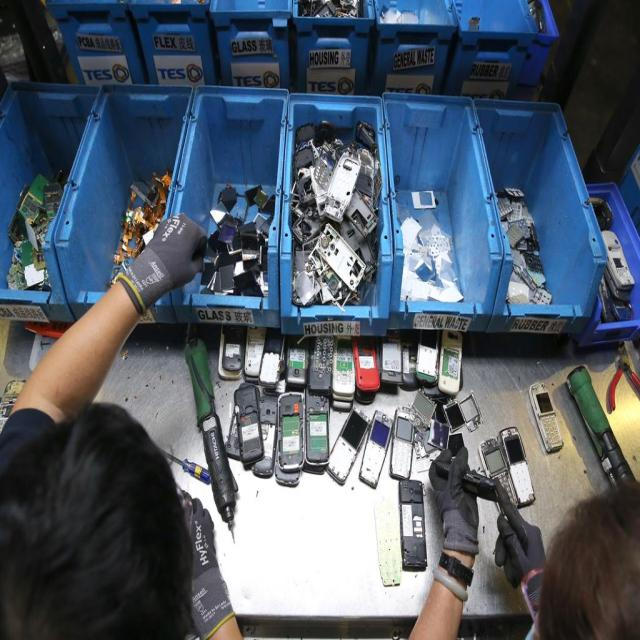Hazard: (179, 344, 542, 550), (294, 147, 372, 358), (15, 161, 64, 284), (213, 168, 260, 287), (414, 168, 458, 291), (119, 157, 174, 244), (505, 192, 542, 293), (607, 190, 634, 307)
